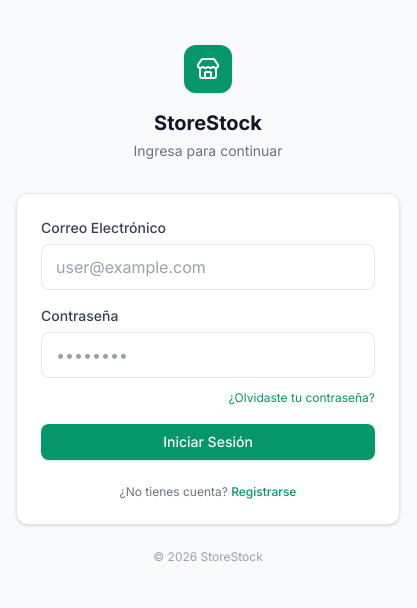
LoginPage › muestra el mensaje de error cuando el login falla
The width and height of the screenshot is (417, 608).
Type "a@b.c" into the field with placeholder "user@example.com" at (208, 267), box [41,244,375,290]
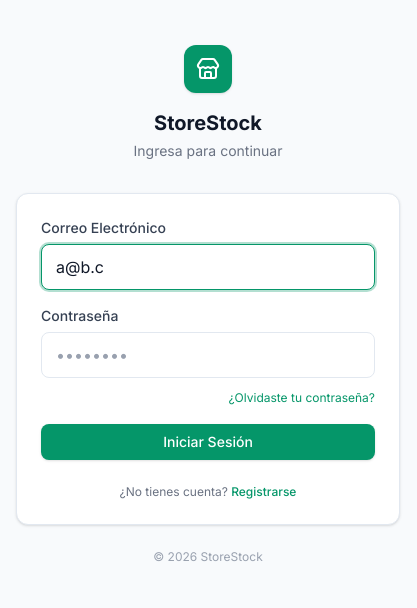
Type "secreto" into the password field with placeholder "••••••••" at (208, 355), box [41,332,375,378]
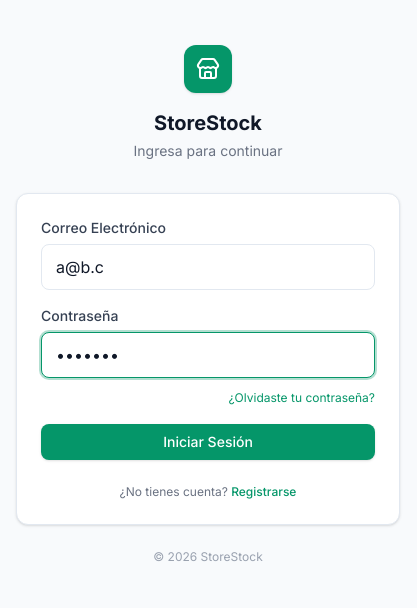
Click the button "Iniciar Sesión" at (208, 442), box [41,424,375,460]
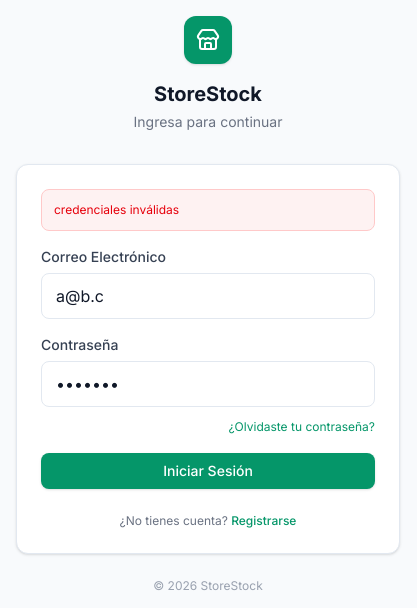
Expected: the text "credenciales inválidas" is shown, [41,189,375,231]
